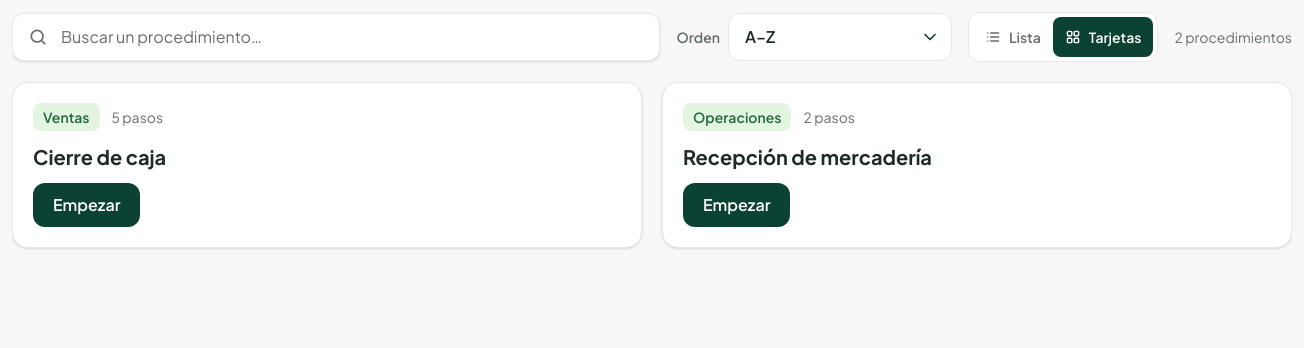
Test case: coming back to the screen (Activity) › coming back does not show an old error
Click the button "Empezar" below "Ventas": (87, 205) left=33, top=183, right=140, bottom=227
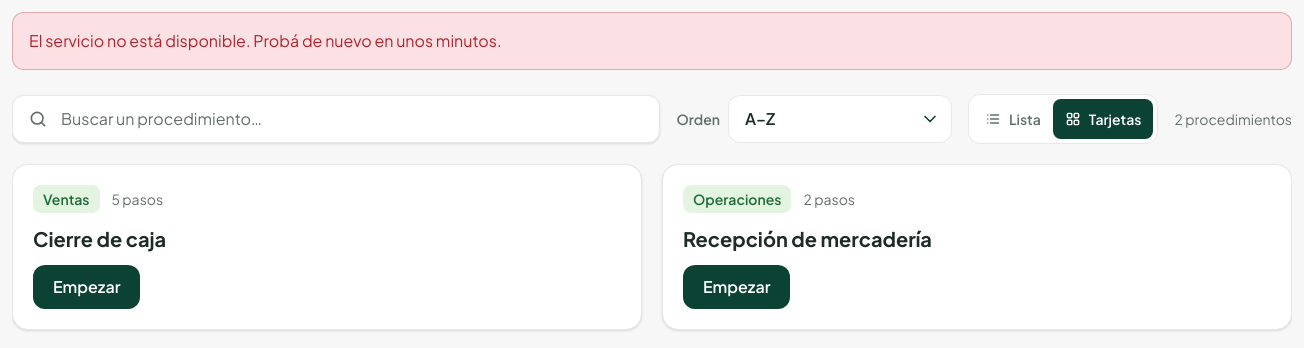
Result: the message "El servicio no está disponible. Probá de nuevo en unos minutos." is shown at left=12, top=12, right=1292, bottom=70
